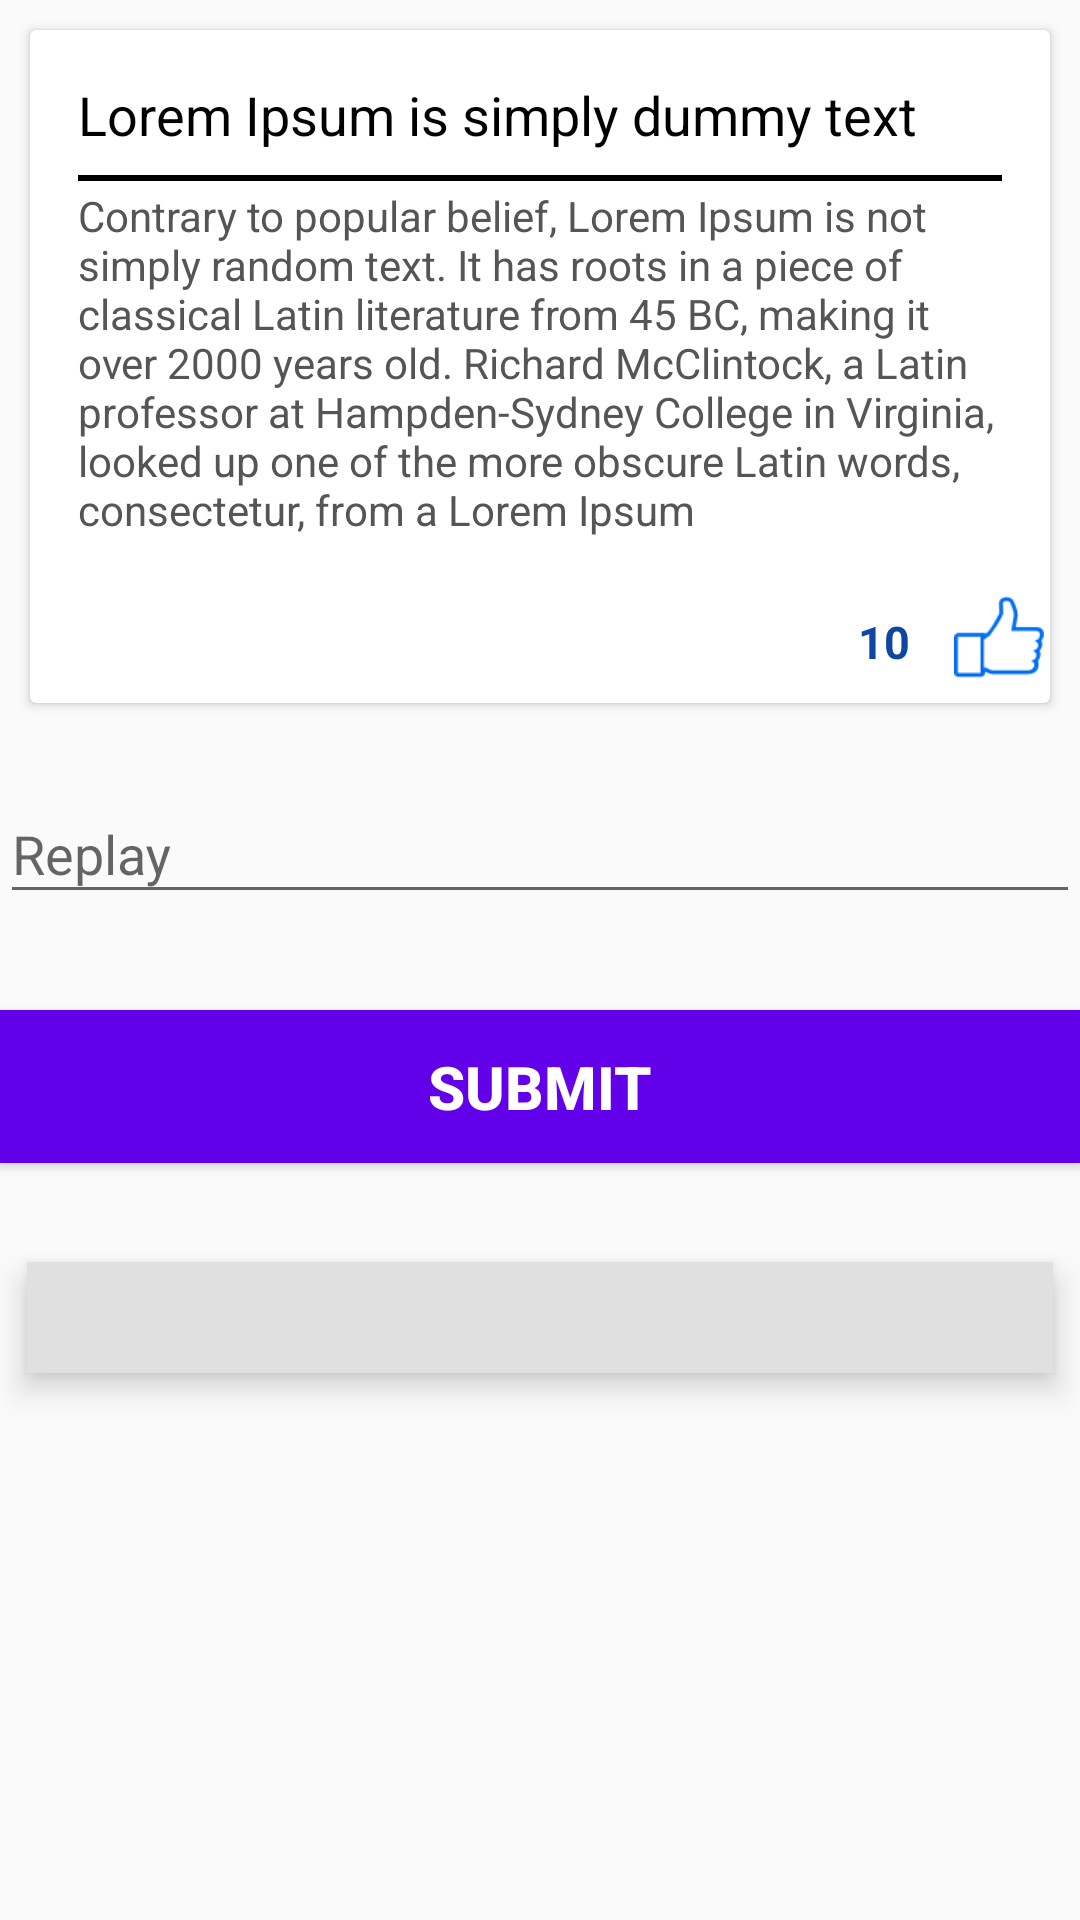

Named icons in this screenshot (1080×1920) and their centers, (x,y):
thumb up: (999,637)
